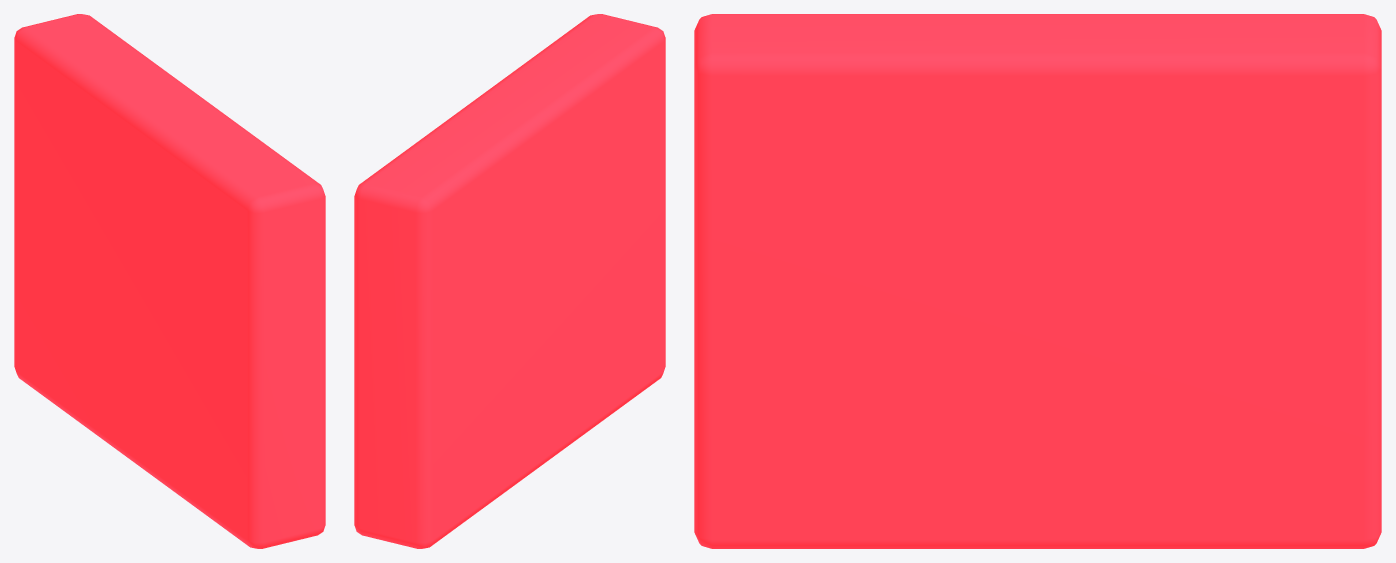
Rendered from light_3d_oled_taillight_fin_l_20.glb.
3 renders of one model, left to right at view 1: azimuth 30°, elevation 25°; view 2: azimuth 150°, elevation 25°; view 3: azimuth 270°, elevation 25°, orthographic. The views are drawn at different scales.
Visible parts, largest first — view 1: LIGHT_3D_OLED_Taillight_Fin_L_20; view 2: LIGHT_3D_OLED_Taillight_Fin_L_20; view 3: LIGHT_3D_OLED_Taillight_Fin_L_20.
Part boxes in pixels (x1=…): LIGHT_3D_OLED_Taillight_Fin_L_20: x1=14, y1=14, x2=325, y2=548; LIGHT_3D_OLED_Taillight_Fin_L_20: x1=354, y1=14, x2=665, y2=548; LIGHT_3D_OLED_Taillight_Fin_L_20: x1=694, y1=14, x2=1381, y2=548.
Bounding box in the file's own units: 0.021 × 0.0918 × 0.1153.
